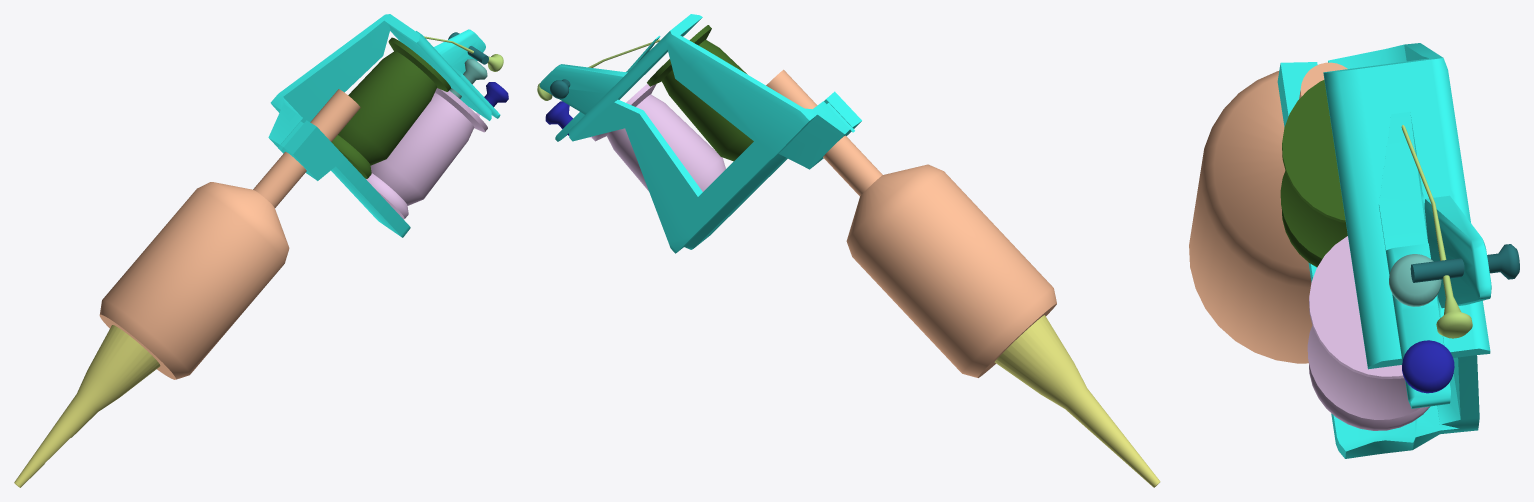
3 views of the same model, side by side, from view 1: azimuth 30°, elevation 25°; view 2: azimuth 150°, elevation 25°; view 3: azimuth 270°, elevation 25° (orthographic). The views are drawn at different scales.
Visible parts, largest first — view 1: Object_2.151, split_parent_0, Object_2.313, Object_2.539, split_parent_8; view 2: Object_2.151, split_parent_0, split_parent_8, Object_2.539, Object_2.313; view 3: split_parent_0, Object_2.151, Object_2.539, Object_2.313, Object_2.899, split_parent_6, Object_2.1223, Object_2.769.
Boxes of the visible parts, <box> form: Object_2.151: <box>99,89,360,379</box>; split_parent_0: <box>268,14,500,237</box>; Object_2.313: <box>331,37,450,178</box>; Object_2.539: <box>366,88,487,219</box>; split_parent_8: <box>14,325,160,487</box>; Object_2.151: <box>766,69,1056,377</box>; split_parent_0: <box>539,14,861,253</box>; split_parent_8: <box>994,315,1160,487</box>; Object_2.539: <box>590,84,725,191</box>; Object_2.313: <box>647,25,753,161</box>; split_parent_0: <box>1277,43,1491,458</box>; Object_2.151: <box>1189,62,1347,363</box>; Object_2.539: <box>1307,236,1430,430</box>; Object_2.313: <box>1280,80,1347,267</box>; Object_2.899: <box>1402,340,1454,393</box>; split_parent_6: <box>1401,125,1472,338</box>; Object_2.1223: <box>1410,244,1519,282</box>; Object_2.769: <box>1389,254,1441,306</box>.
Size of the model in its own units: 1 by 0.6271 by 0.2711.
